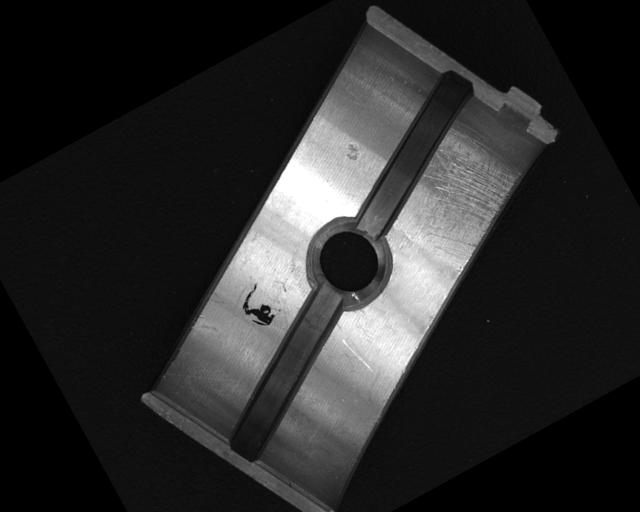blot: (232, 280, 281, 336)
bruise: (339, 137, 366, 164)
gap: (181, 284, 387, 469), (316, 65, 511, 238)
hole: (290, 205, 404, 321)
nick: (342, 333, 375, 379)
scratch: (382, 114, 544, 275)
